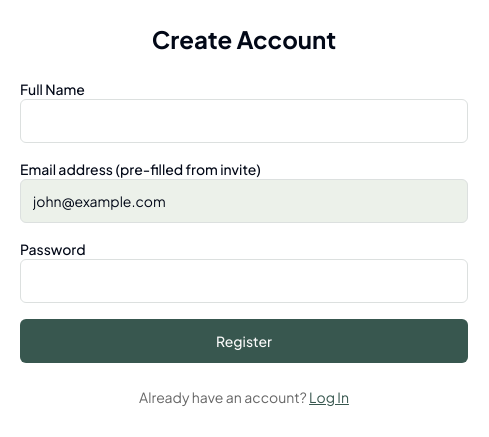
RegistrationForm › bad cases › shows validation error when password is too short
Step 1. Type "John" into the field labelled "Full Name" → [244, 121], box [20,99,468,143]
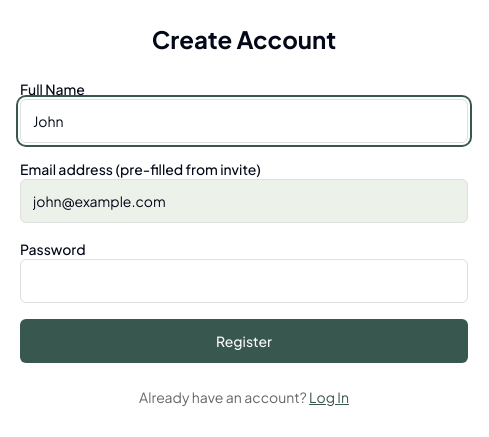
Step 2. Type "short" into the password field labelled "Password" → [244, 281], box [20,259,468,303]
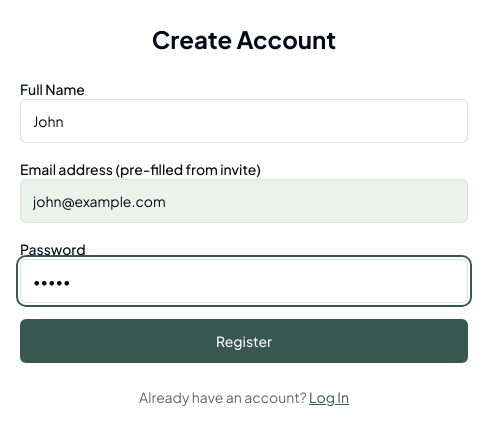
Step 3. Click the button "Register" → [244, 341], box [20,319,468,363]
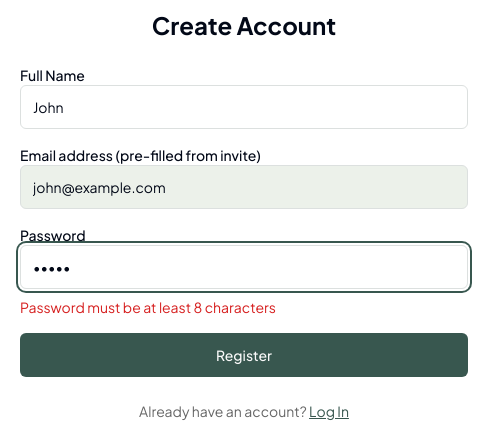
expect the text "Password must be at least 8 characters" is shown: met, box [20,298,276,316]
